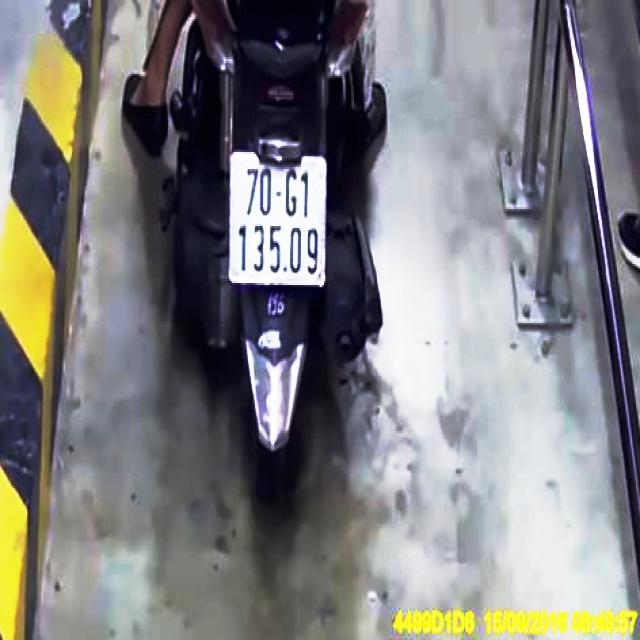license_plate: (230, 154, 329, 288)
